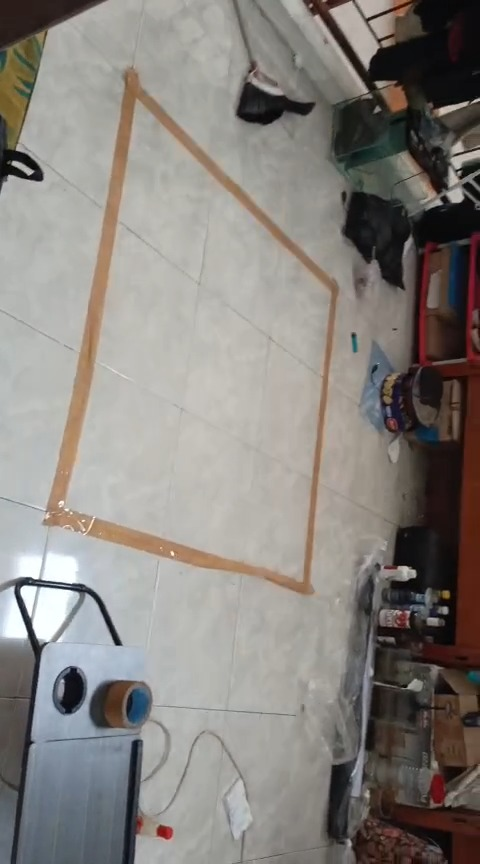floor marking: (44, 68, 337, 594)
